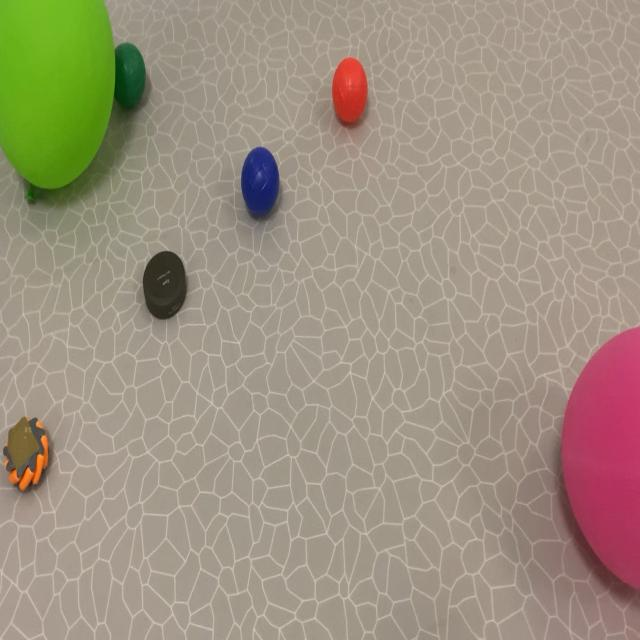7: (311, 25, 407, 162)
blue ball: (115, 2, 375, 235)
green ball: (223, 108, 298, 280)
red ball: (110, 27, 180, 141)
